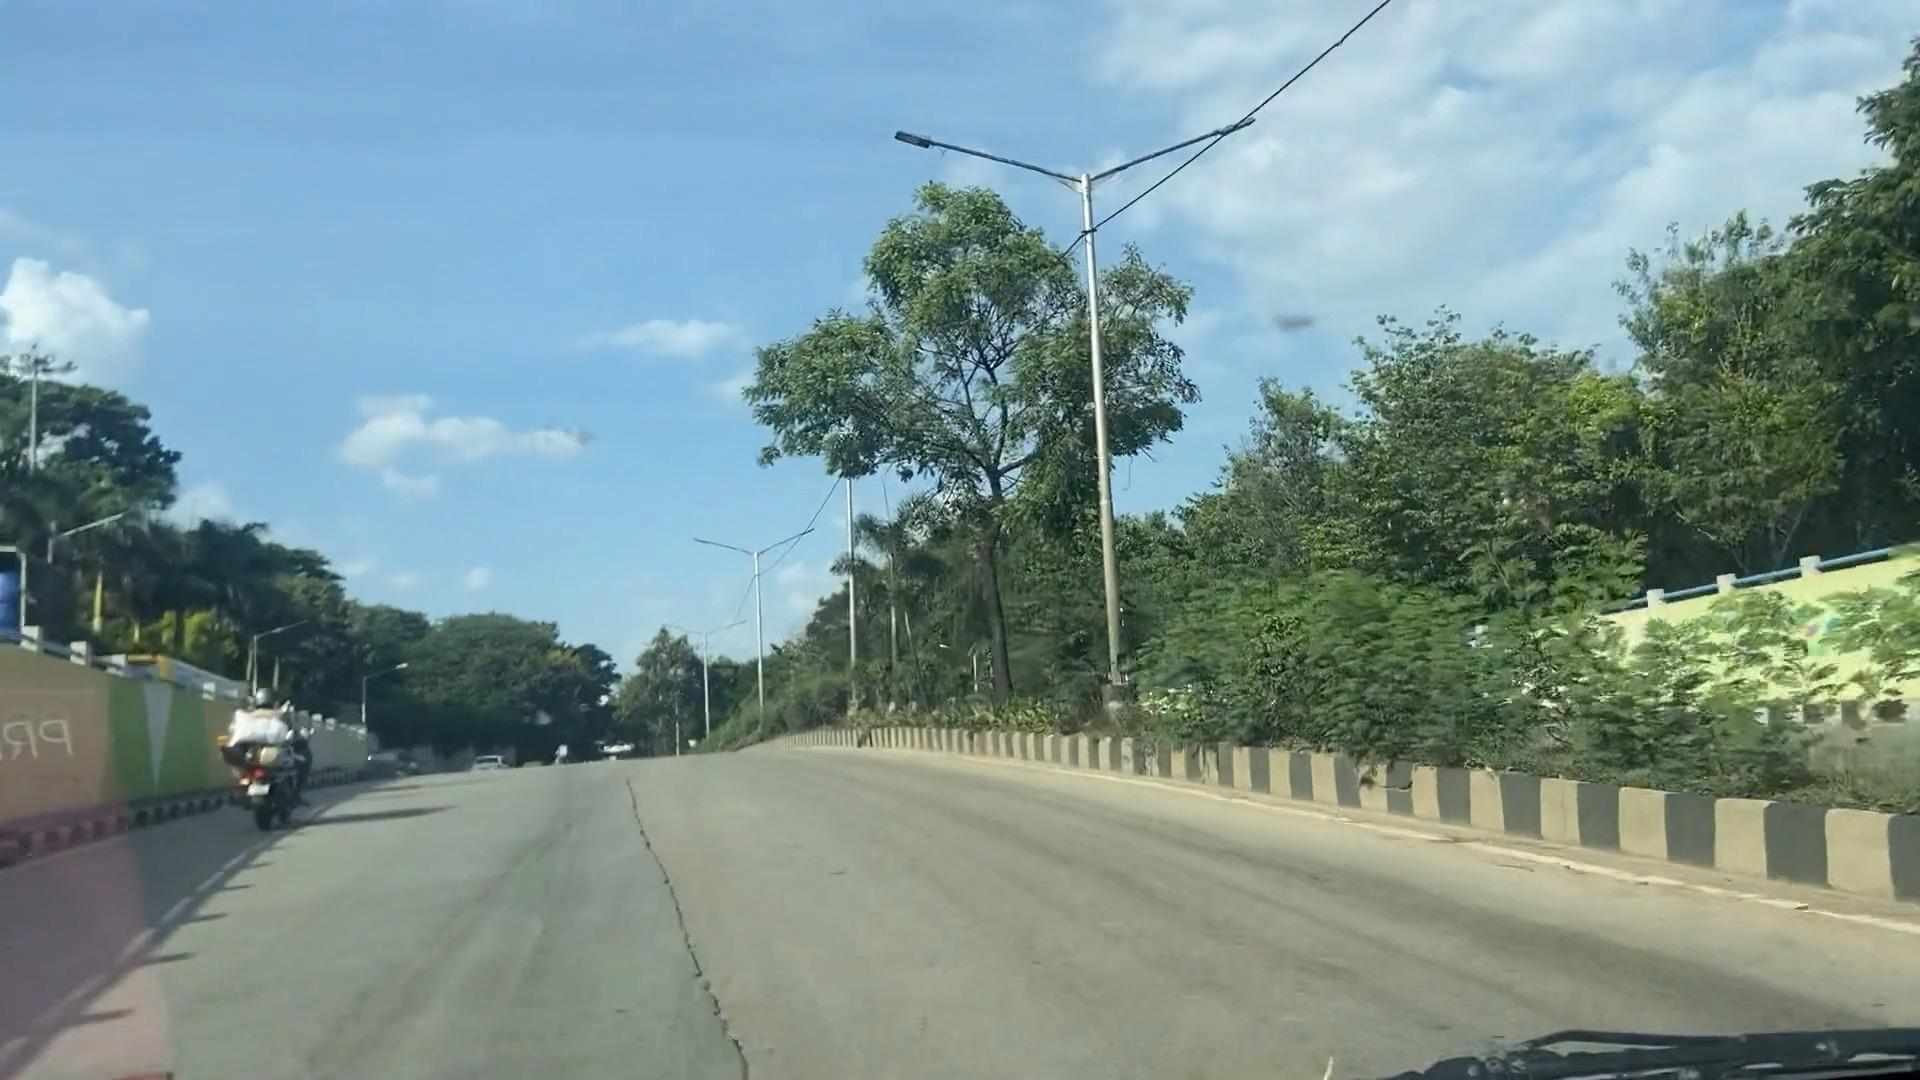LMV: (218, 675, 303, 820)
RoadDamages: (638, 910, 812, 1071), (597, 771, 700, 897)
